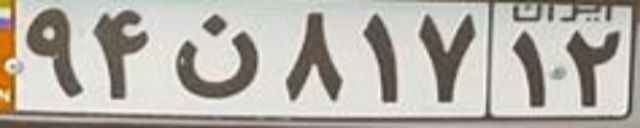1: (360, 13, 399, 103), (509, 29, 547, 107)
2: (562, 27, 617, 108)
4: (93, 9, 147, 100)
7: (416, 12, 479, 102)
8: (279, 11, 345, 102)
9: (26, 7, 83, 97)
non: (171, 12, 260, 100)
